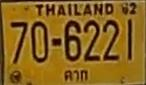0: (30, 20, 48, 62)
1: (127, 18, 132, 59)
2: (102, 19, 118, 60), (83, 20, 99, 60)
6: (64, 19, 80, 60)
7: (10, 21, 27, 63)
TAK: (60, 68, 90, 83)
